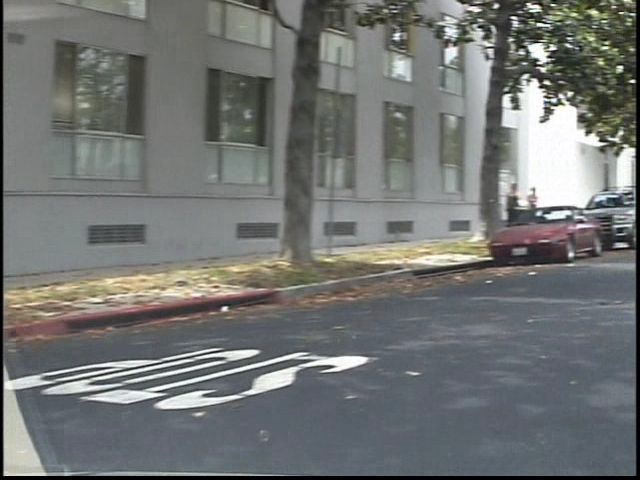person: (515, 178, 539, 241), (535, 184, 559, 237)
